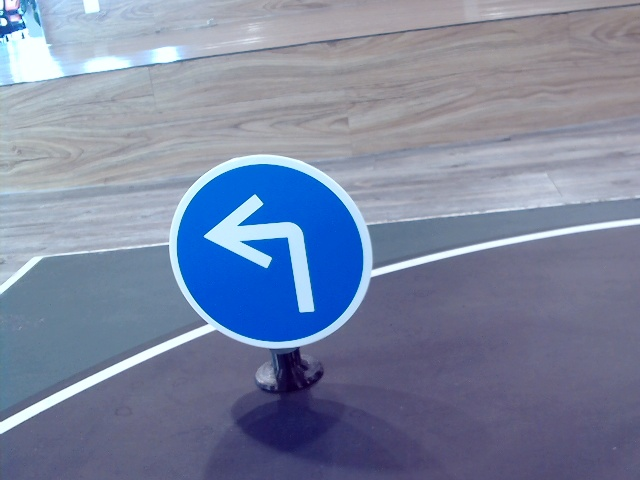turn_left: (202, 191, 329, 316)
